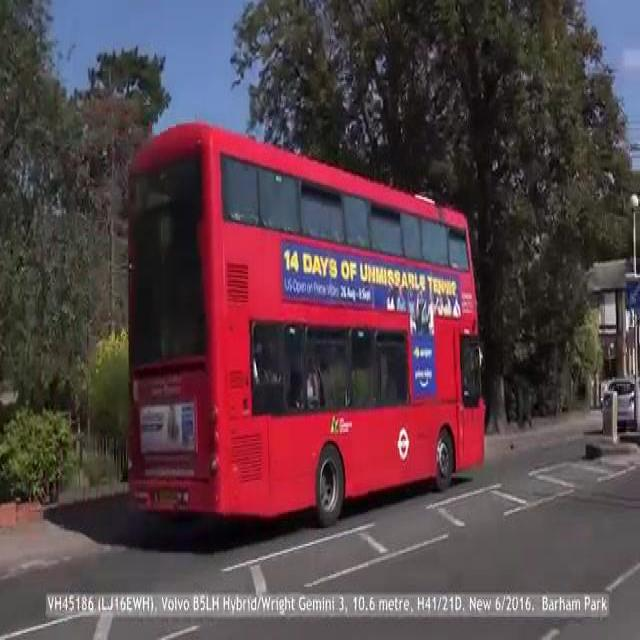motorcycle: (96, 110, 510, 544)
